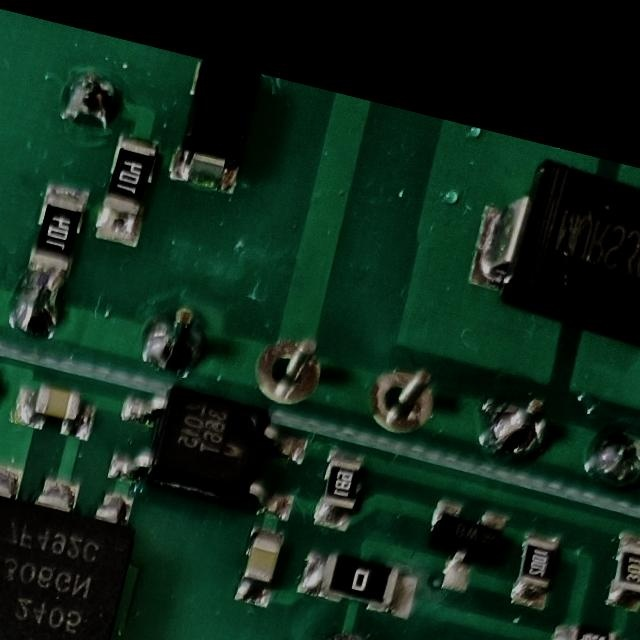chip-capacitor: (7, 375, 104, 445), (227, 519, 289, 613)
chip-resistor: (291, 543, 421, 625), (87, 126, 165, 251), (22, 178, 93, 285), (306, 442, 371, 537), (505, 525, 567, 615), (596, 528, 640, 617)
diode: (457, 148, 640, 355), (162, 57, 269, 200)
ic: (100, 372, 317, 528)
transistor: (410, 490, 514, 602)
